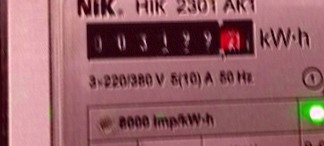0: (117, 32, 128, 51), (94, 33, 103, 51)
1: (161, 29, 170, 47)
3: (139, 32, 149, 52)
6: (227, 36, 237, 50)
9: (182, 27, 192, 47), (204, 29, 214, 47)
screen: (80, 11, 262, 66)
